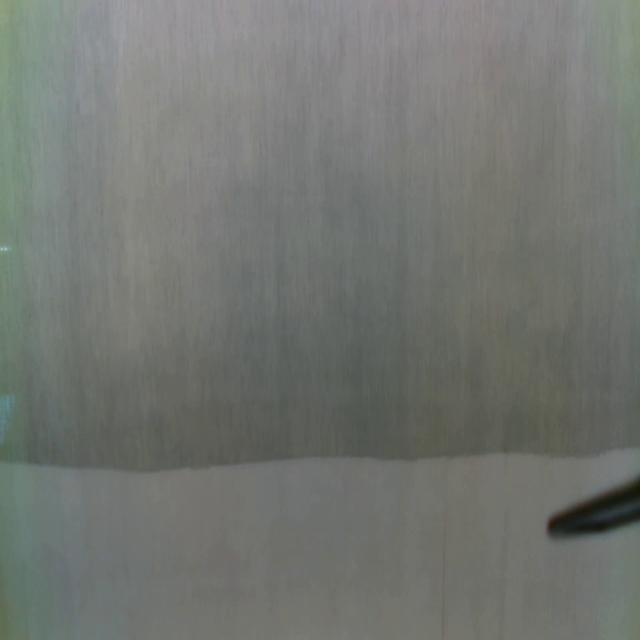crease: (438, 518, 449, 640)
